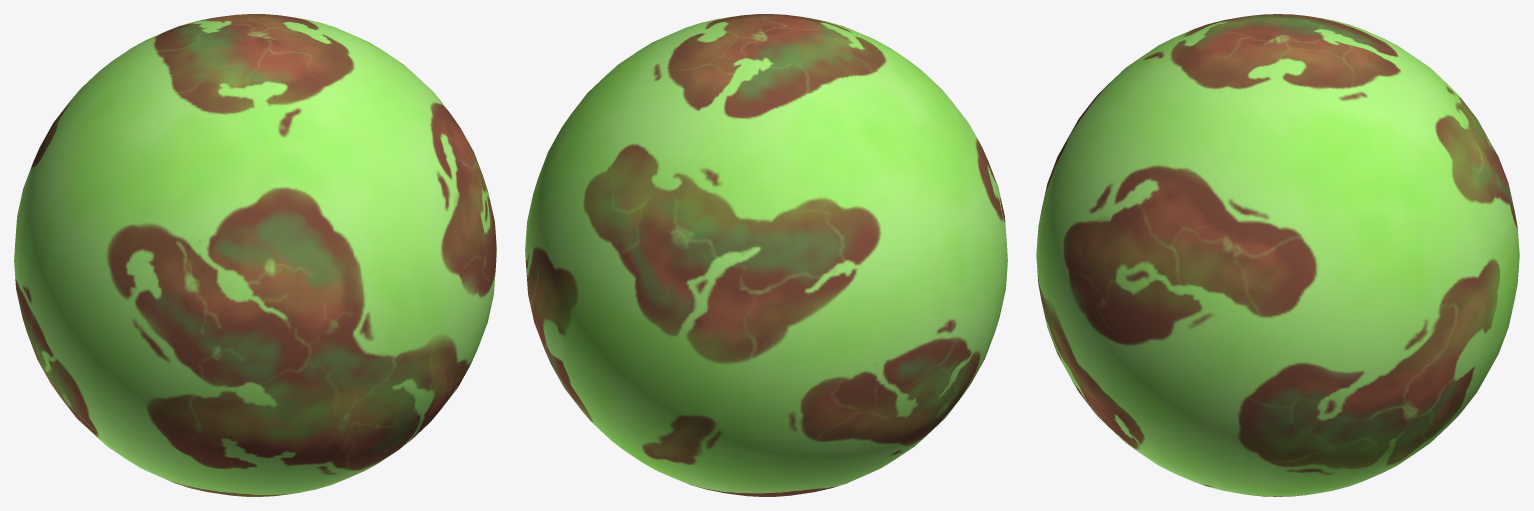
File: Planet.fbx
The picture shows the model from 3 angles, left to right: view 1: azimuth 30°, elevation 25°; view 2: azimuth 150°, elevation 25°; view 3: azimuth 270°, elevation 25°; orthographic projection.
Parts seen in each view (by area): view 1: planet2; view 2: planet2; view 3: planet2.
Part boxes in pixels (bbox=[...]): planet2: bbox=[14, 14, 496, 496]; planet2: bbox=[525, 14, 1007, 496]; planet2: bbox=[1036, 14, 1519, 496].
Size of the model in its own units: 2 by 2 by 2.
1 material, 1 textured.
